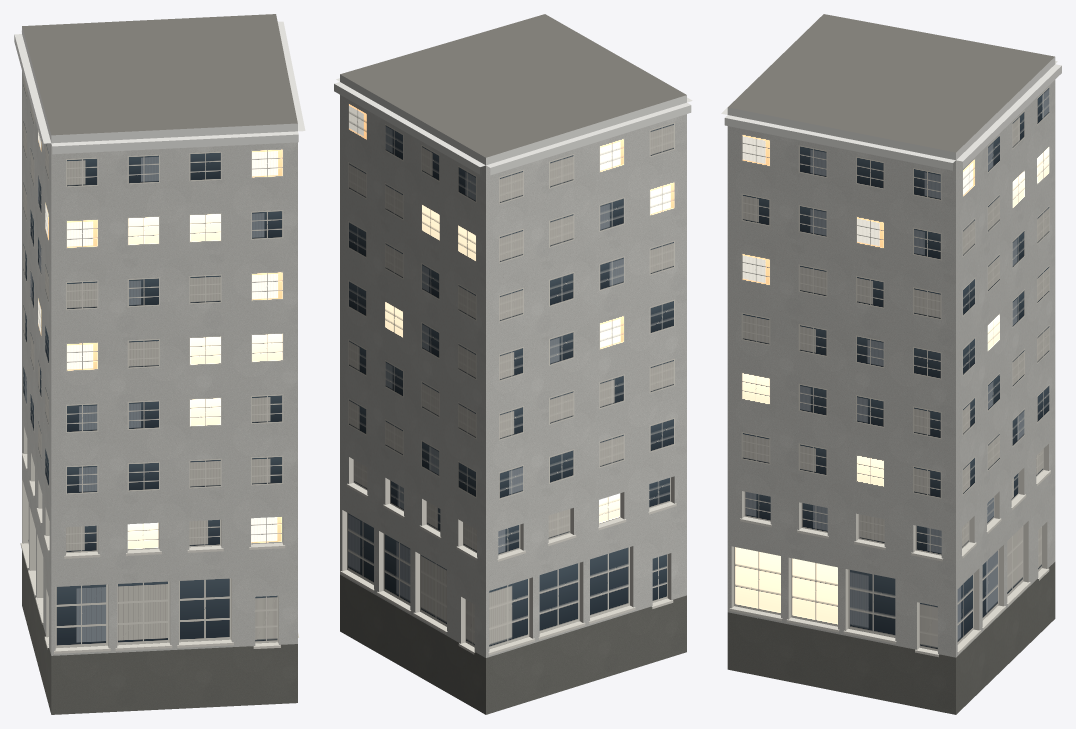
The model's file is z5b_altst147.glb.
3 renders of one model, left to right at view 1: azimuth 30°, elevation 25°; view 2: azimuth 150°, elevation 25°; view 3: azimuth 270°, elevation 25°, orthographic. The views are drawn at different scales.
Visible parts, largest first — view 1: z5b_altst147; view 2: z5b_altst147; view 3: z5b_altst147.
Part boxes in pixels (x1,y1,x2,y2): z5b_altst147: (14, 14, 305, 714); z5b_altst147: (334, 14, 692, 714); z5b_altst147: (721, 14, 1061, 714).
Bounding box in the file's own units: 16.21 × 29.44 × 16.18.
3 materials, 3 textured.
